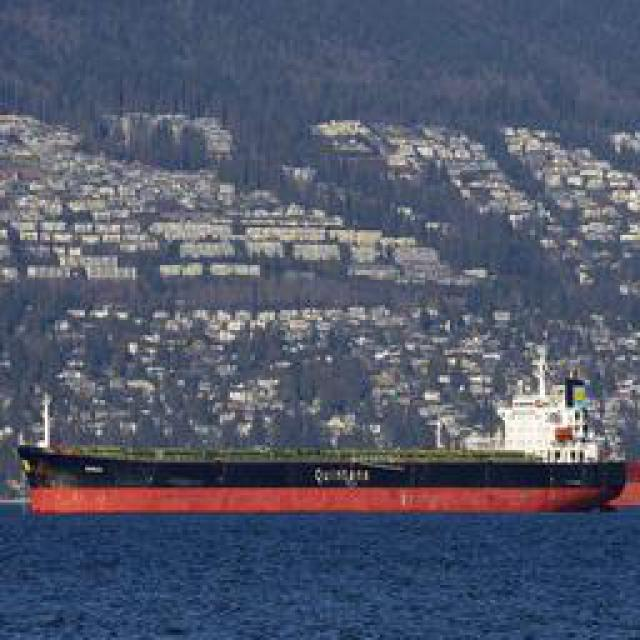Ship: (10, 439, 635, 512)
